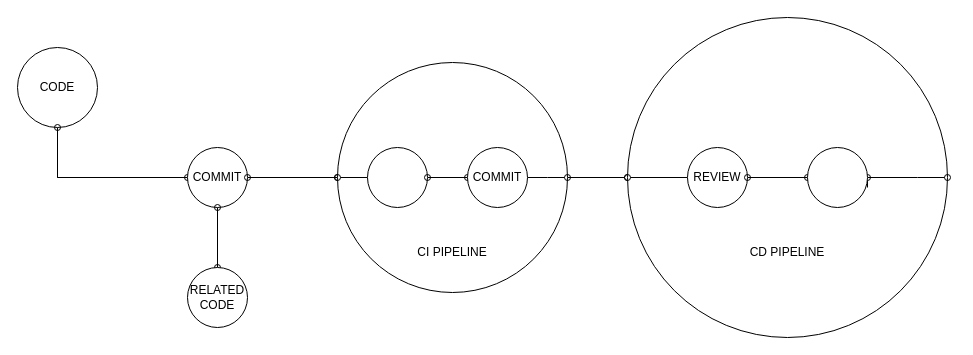
Image size: 973x355. Some labels were removed from this diagram. The shapes that lost their labels are listed below. From the top down, each one's box as (x1, y1, x2, y2) in pixels, then its label:
(366, 146, 428, 208): BUILD
(806, 146, 868, 208): STAGING
